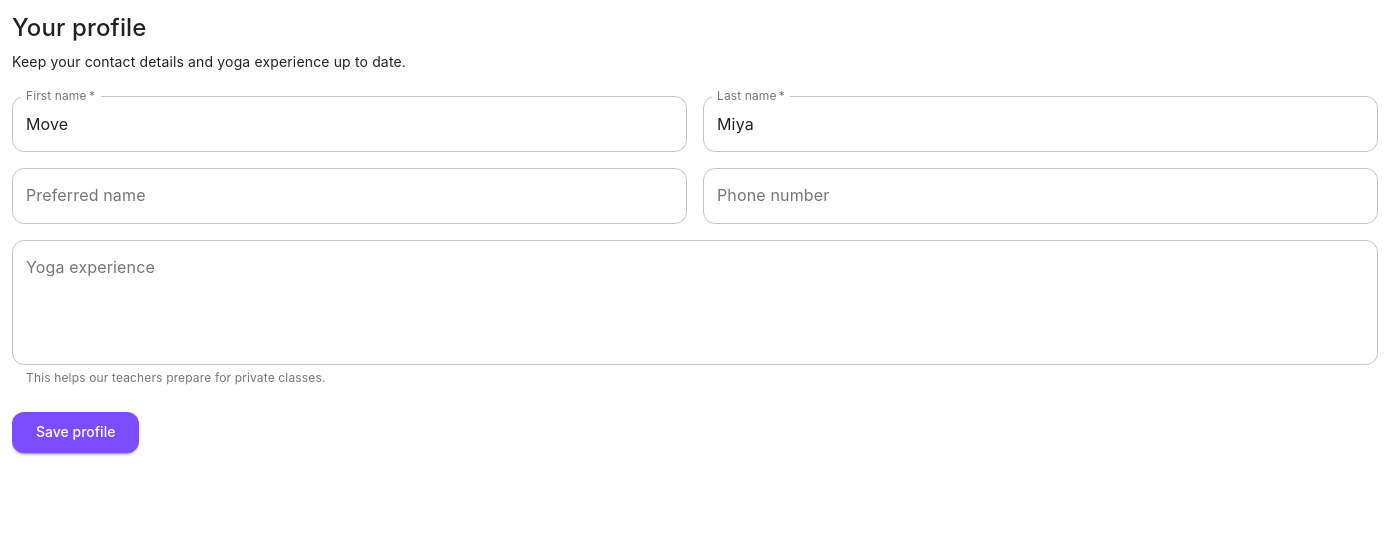
Test: ProfileForm › saves profile fields and reports success
Type "Mia" into the field labelled "Preferred name". click: (350, 196)
box: left=12, top=168, right=687, bottom=224
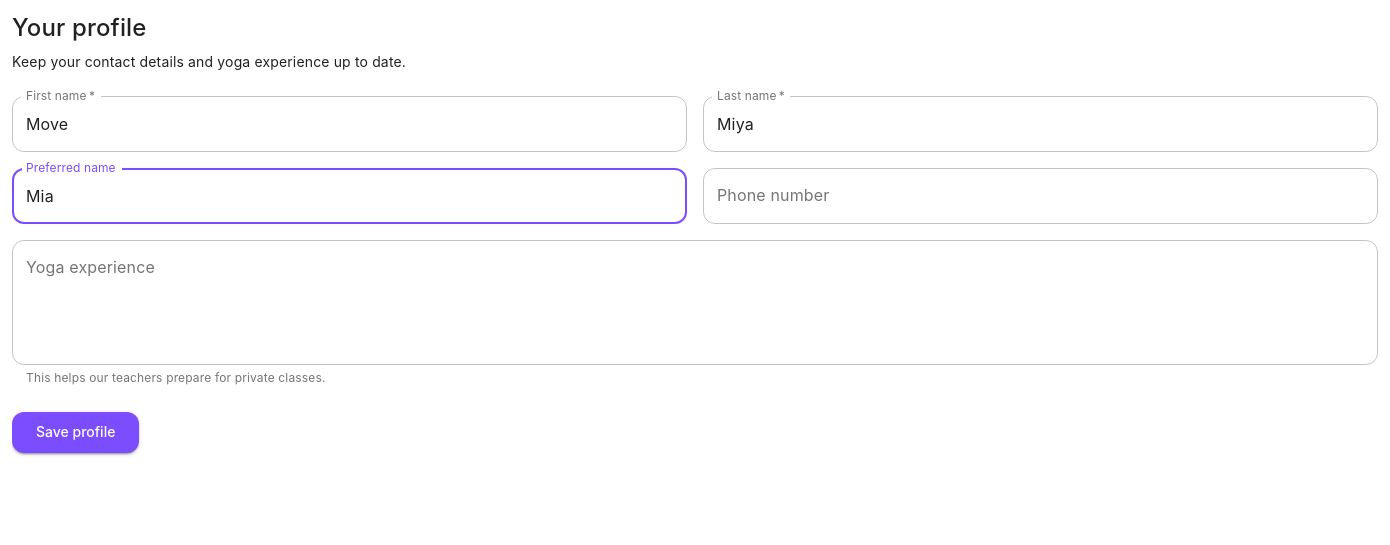
Type "555-0100" into the field labelled "Phone number". click: (1040, 196)
box: left=703, top=168, right=1378, bottom=224
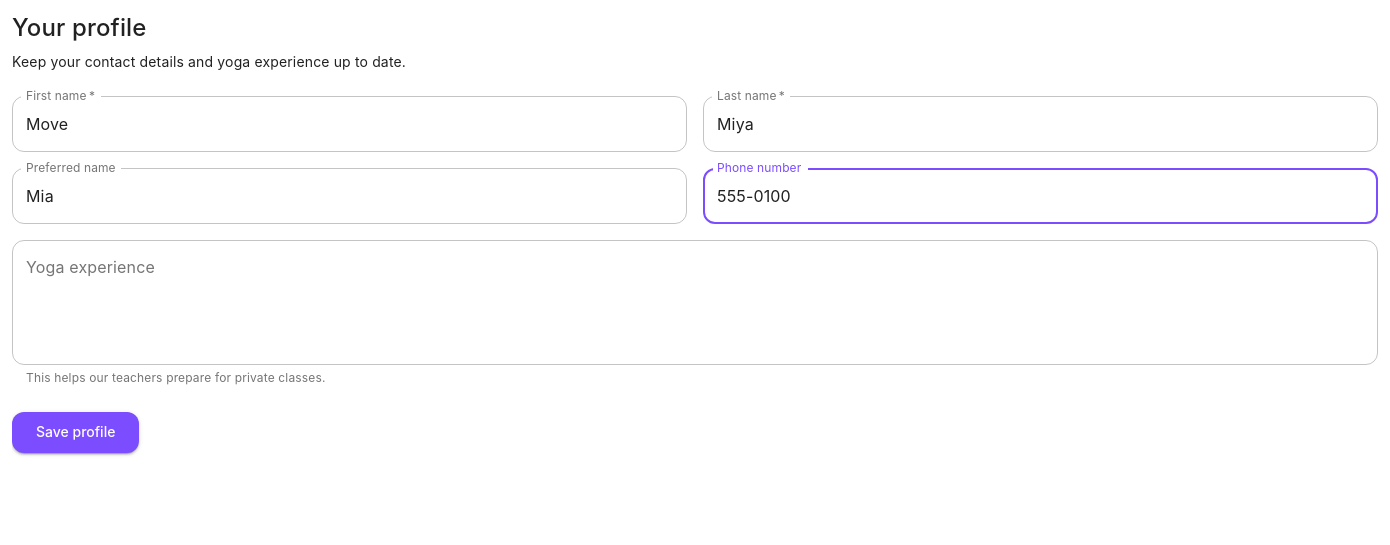
Click the button "Save profile". click: (76, 433)
box: left=12, top=412, right=139, bottom=453
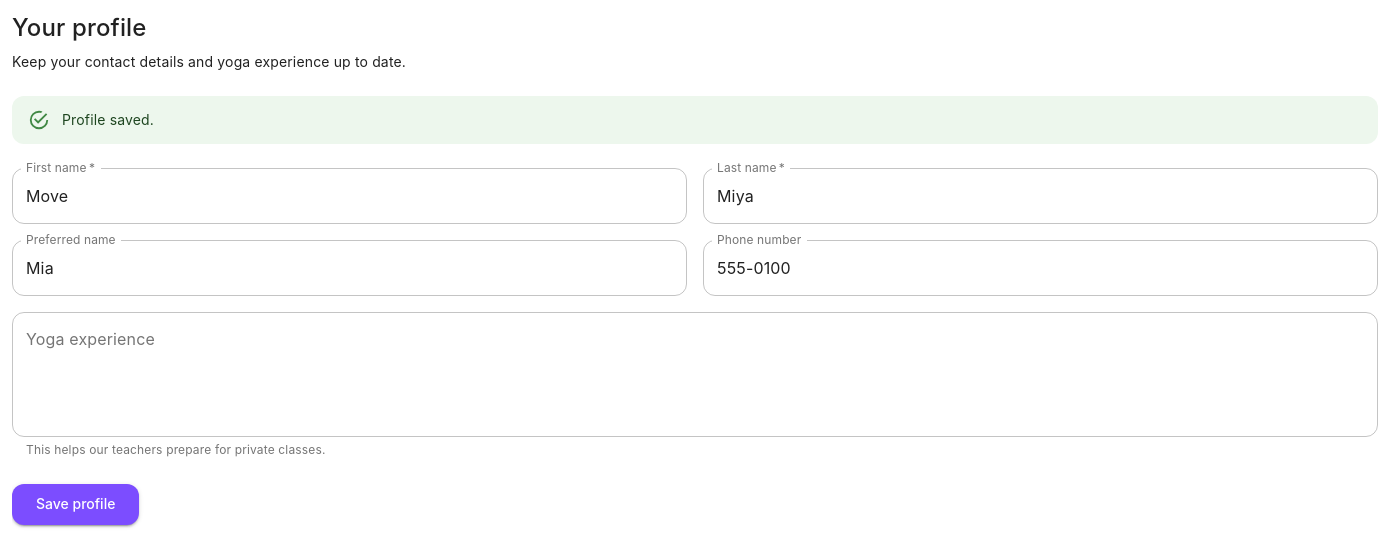
Expected: the text "Profile saved." is shown, left=62, top=111, right=154, bottom=128
